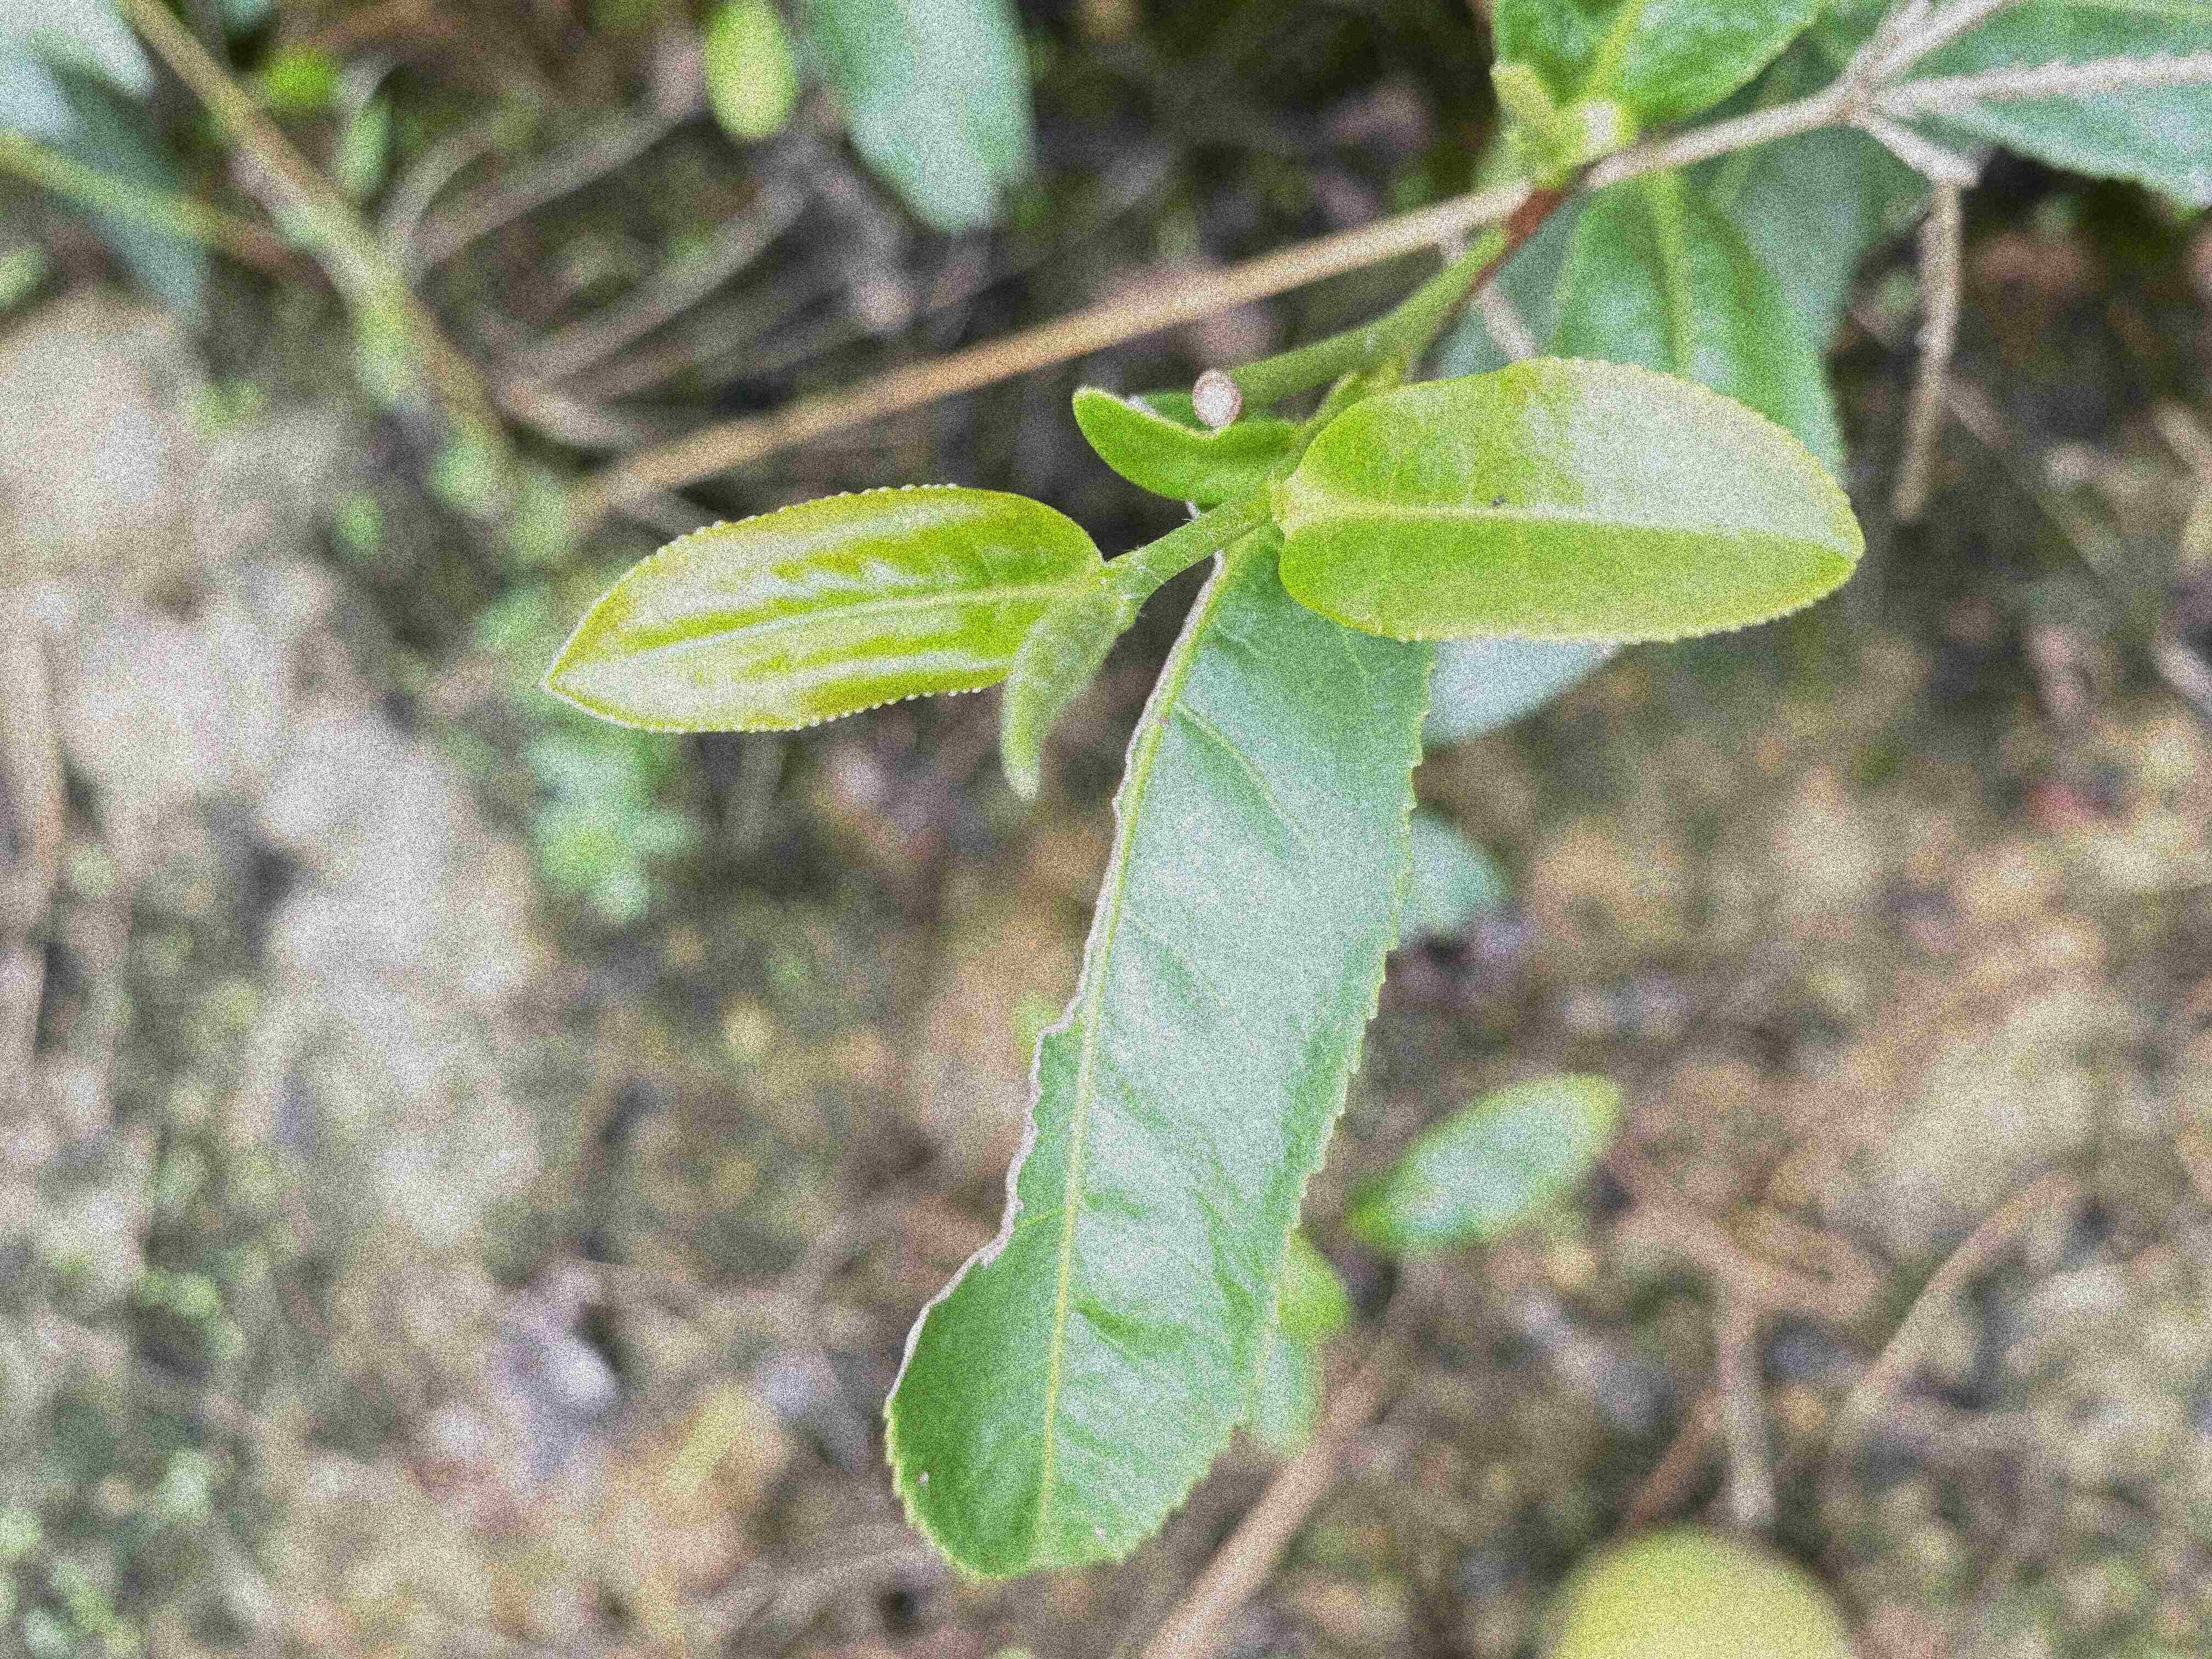chihuo_high: (855, 561, 1442, 1579)
tanju_low: (1273, 356, 1867, 645), (542, 479, 1106, 735)
